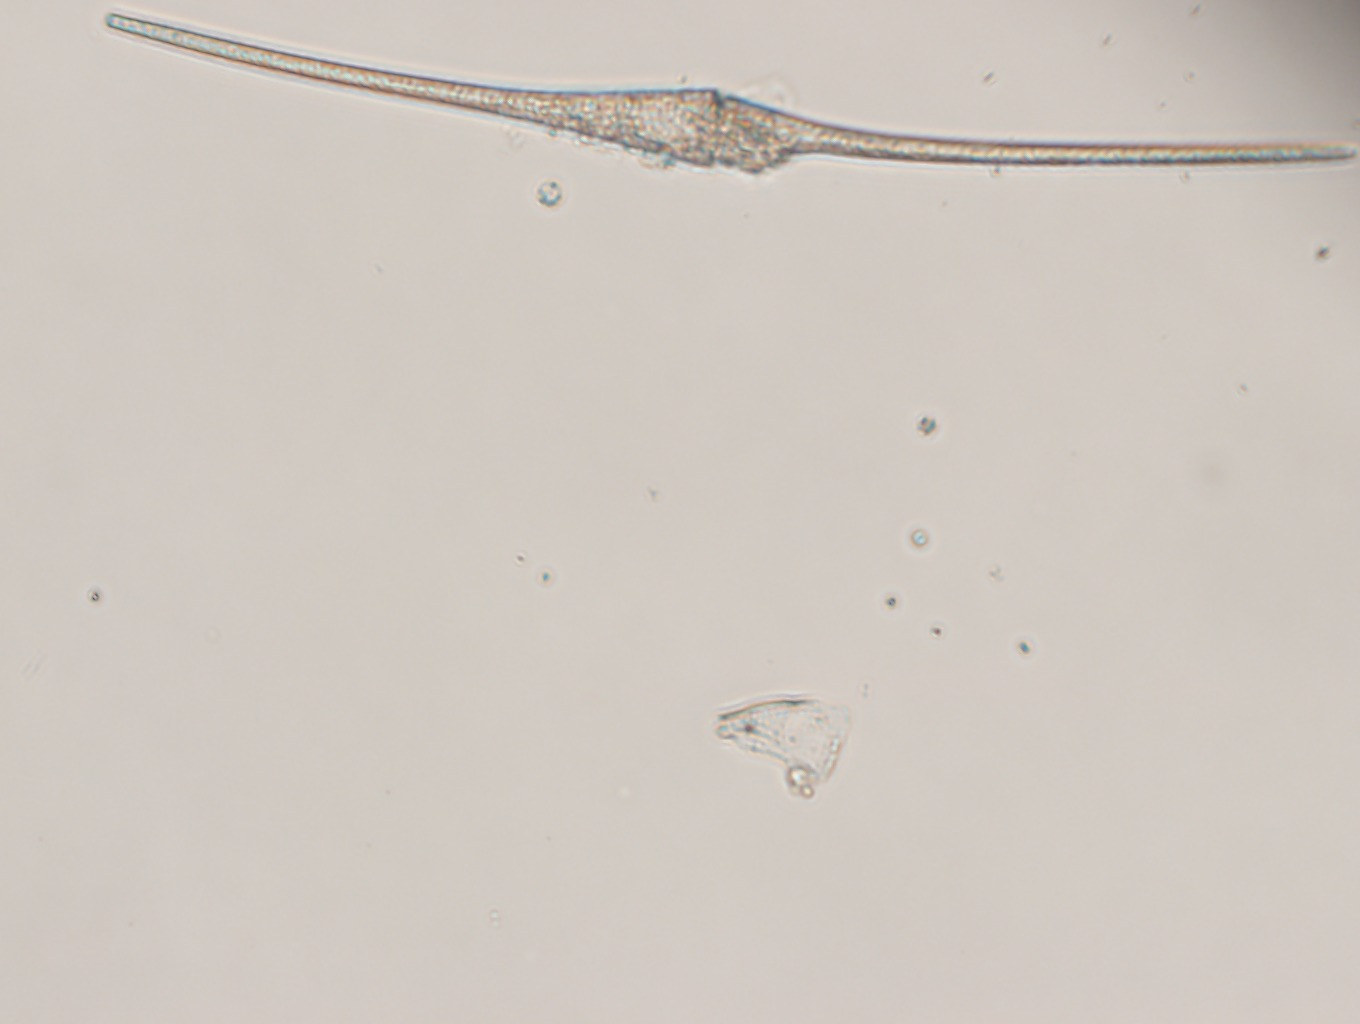ceratium fusus: (105, 8, 1360, 168)
